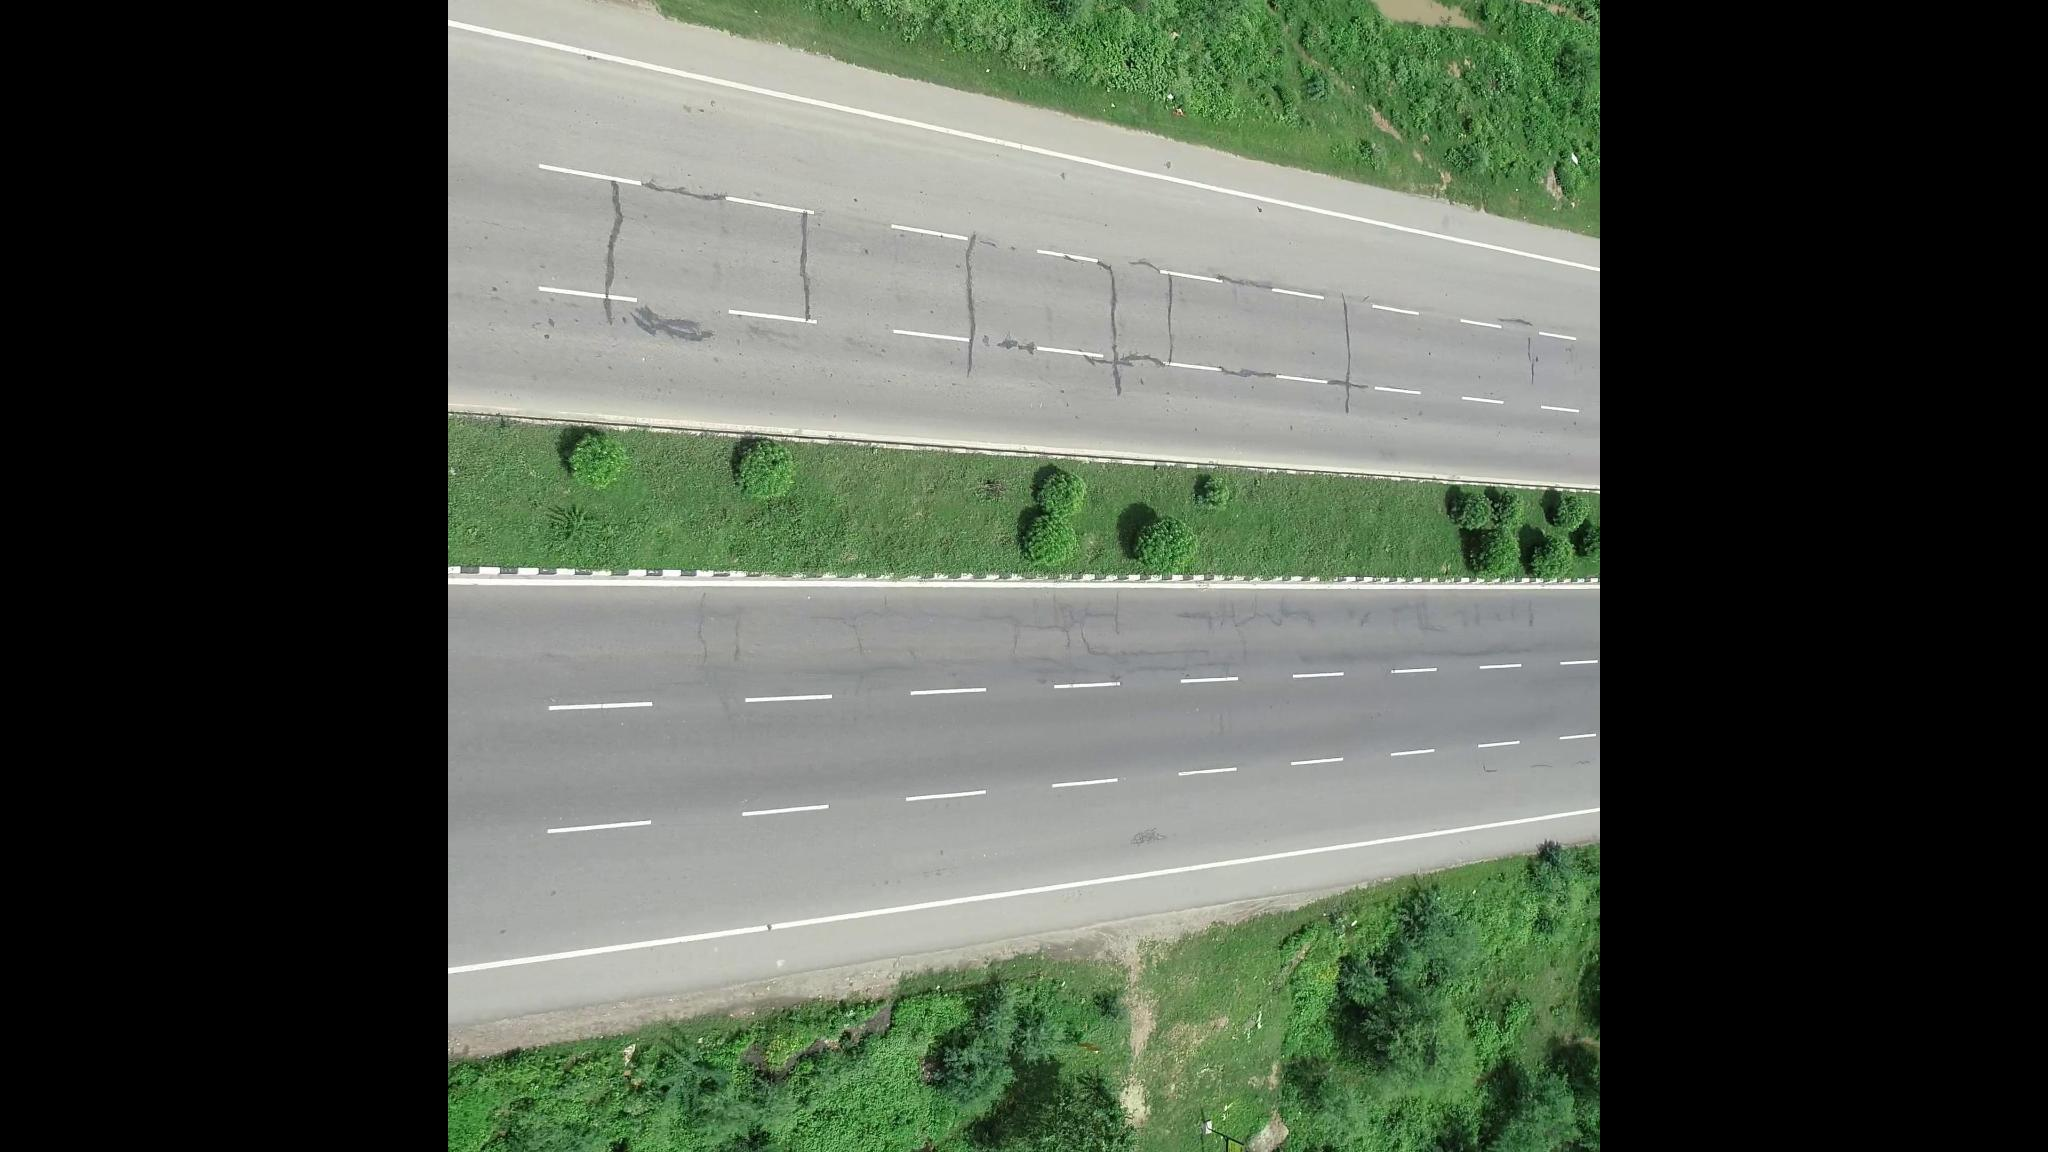Cracks: (928, 610, 1127, 641), (1080, 643, 1241, 677), (1184, 603, 1338, 639)
